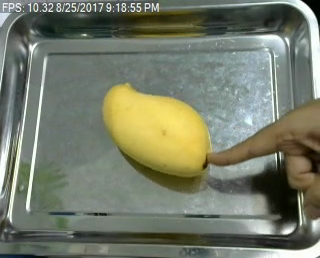Mango: (100, 79, 218, 175)
